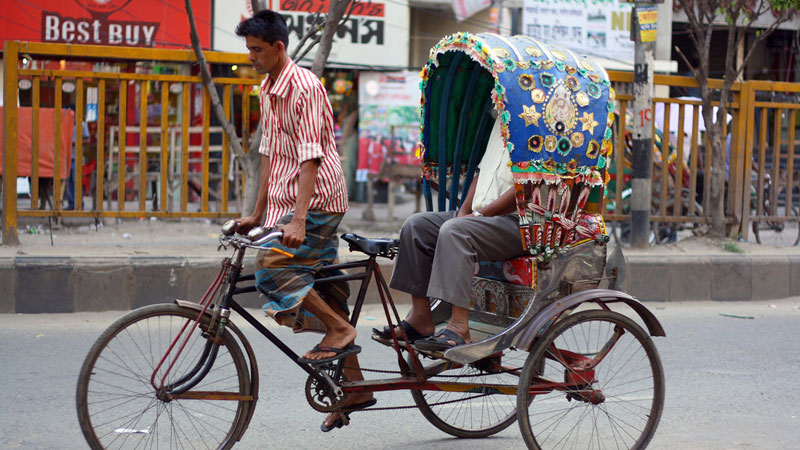Rickshaw: (73, 6, 668, 447)
